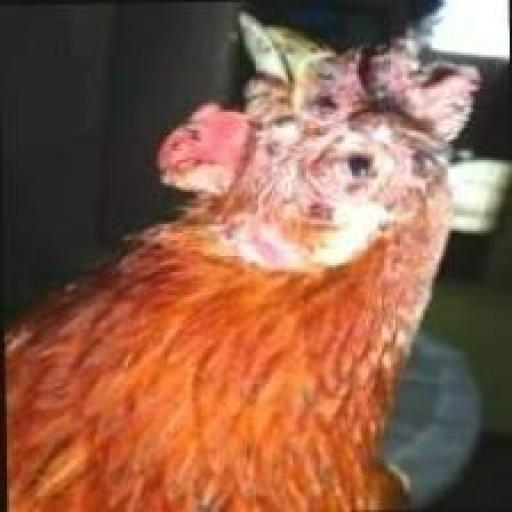disease: (142, 0, 502, 245)
